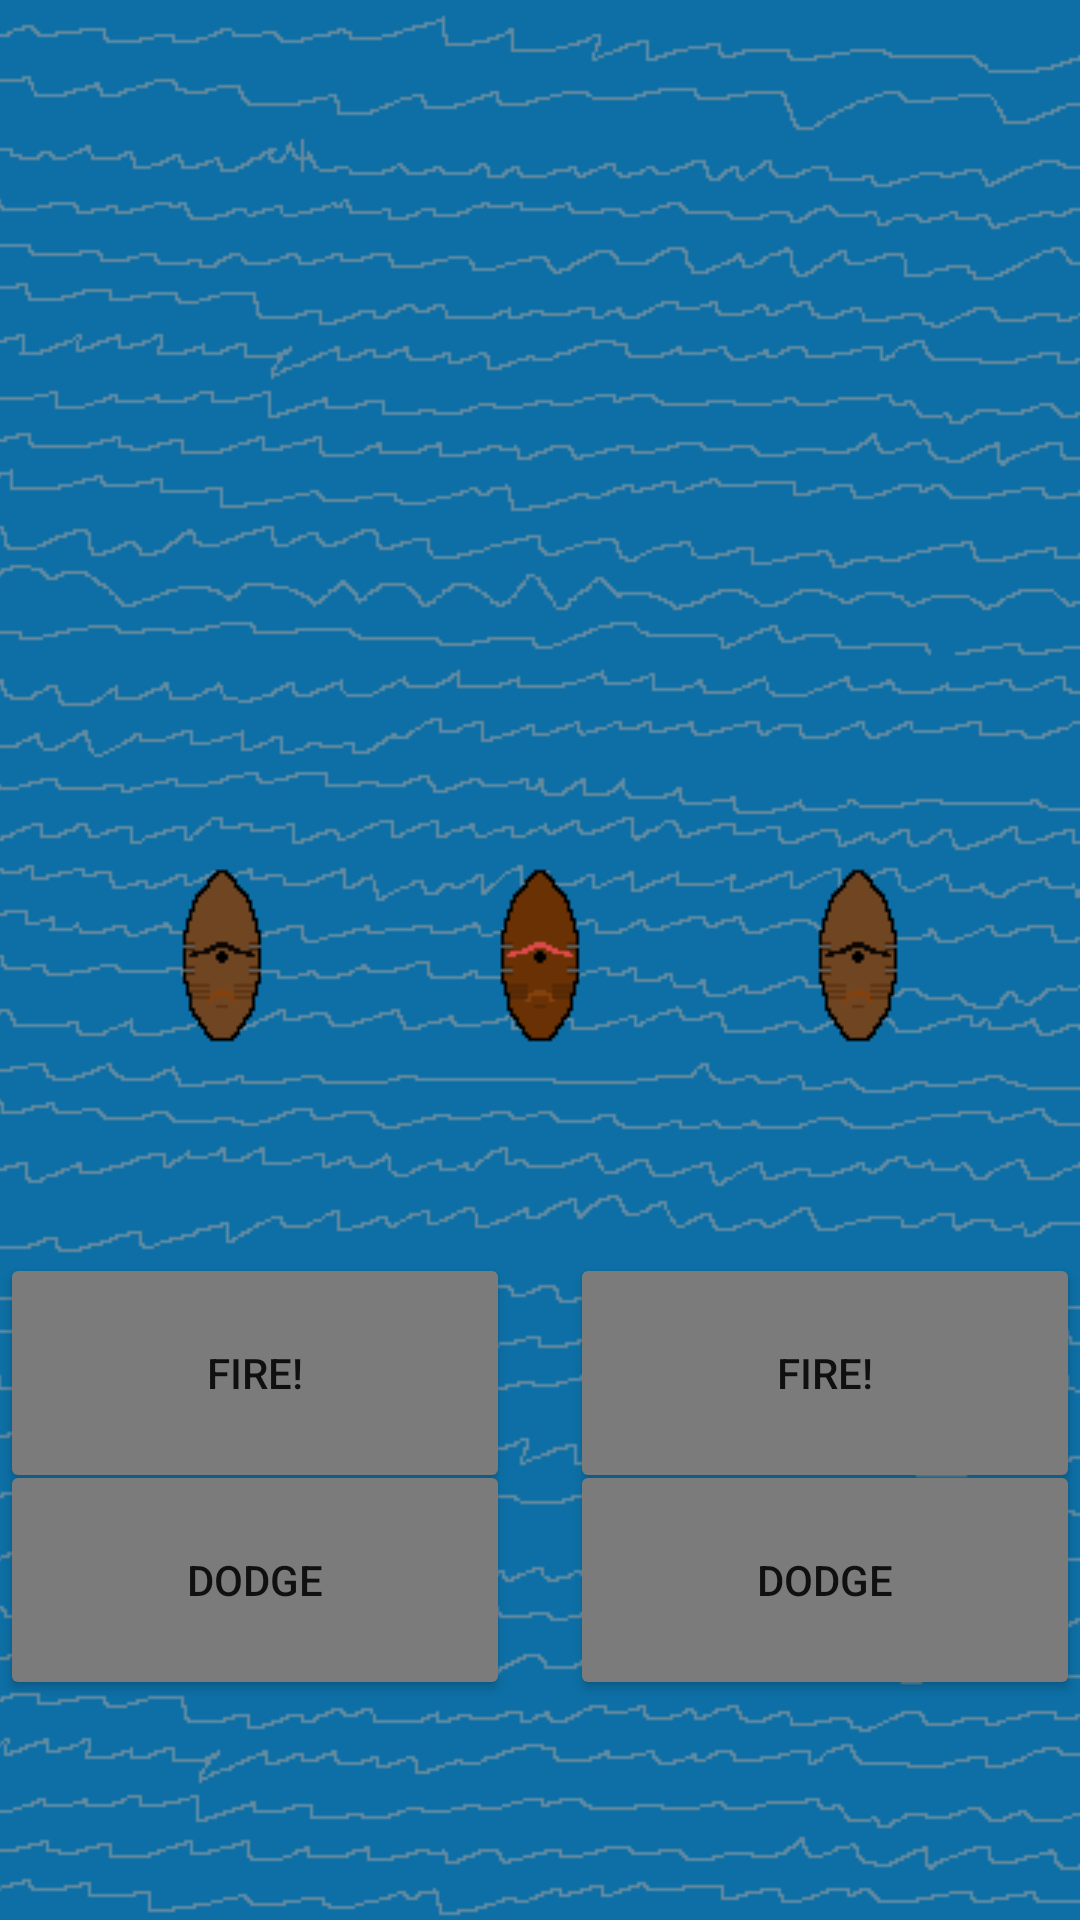

Icon click points for this 1080w x 1920h phone screenshot, format (x=x, y=y):
enemyship: (x=222, y=954), (x=858, y=954)
playership: (x=540, y=953)
